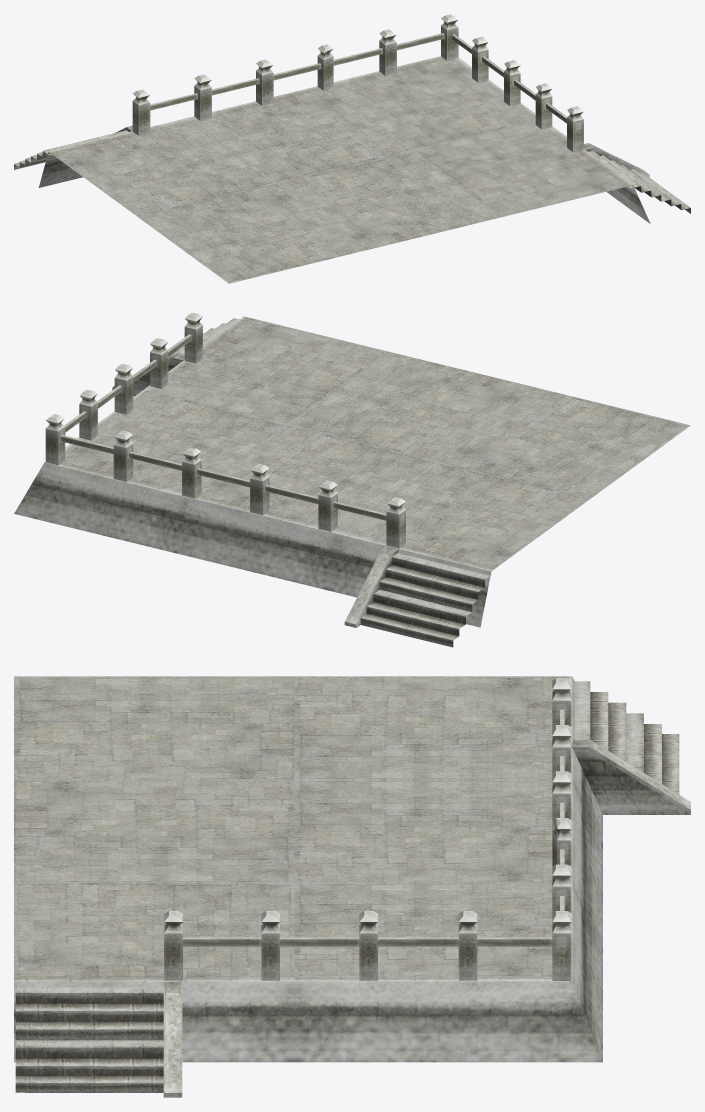
Rendered from snow_tower01_04.fbx.
3 renders of one model, top to bottom at view 1: azimuth 30°, elevation 25°; view 2: azimuth 150°, elevation 25°; view 3: azimuth 270°, elevation 25°, orthographic. The views are drawn at different scales.
Parts seen in each view (by area): view 1: snow_tower02_04; view 2: snow_tower02_04; view 3: snow_tower02_04.
Boxes of the visible parts, x1,y1,x2,y2 form: snow_tower02_04: (14, 14, 690, 283); snow_tower02_04: (14, 312, 690, 647); snow_tower02_04: (14, 676, 690, 1097).
Size of the model in its own units: 42.51 by 7.32 by 34.34.
